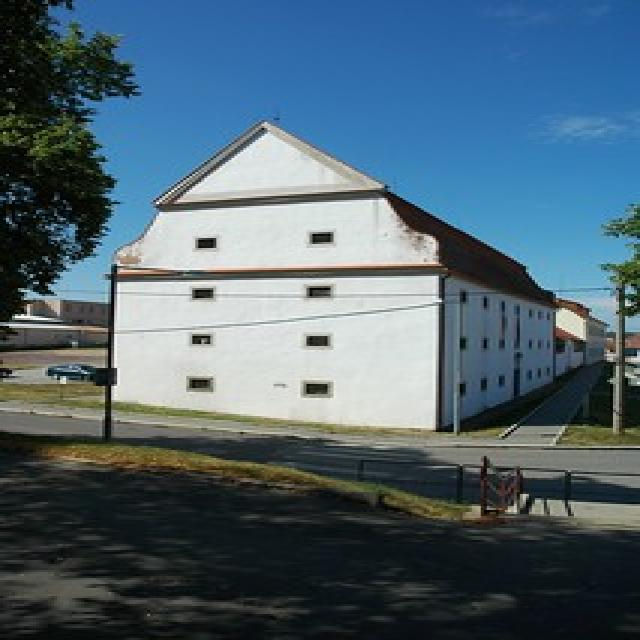building: (102, 125, 559, 435)
